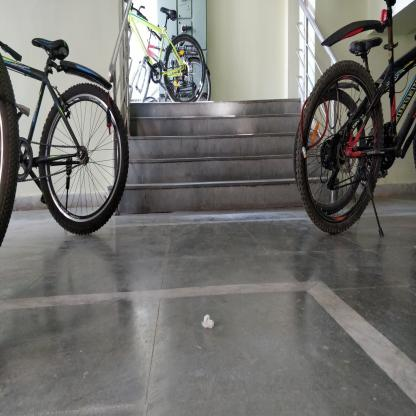stairs: (134, 100, 292, 221)
